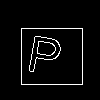P: (25, 25, 66, 77)
